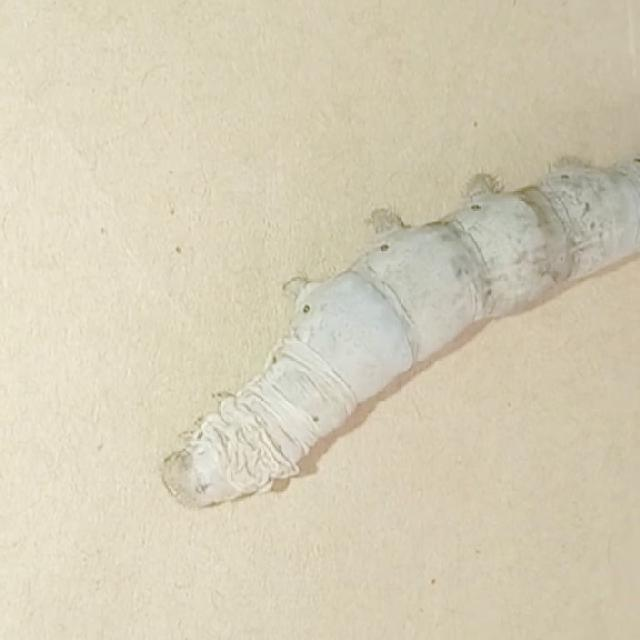Grasserie: (144, 131, 640, 549)
